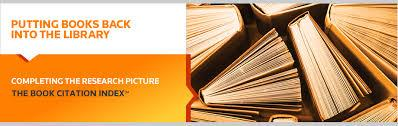Paper: (187, 5, 398, 126)
